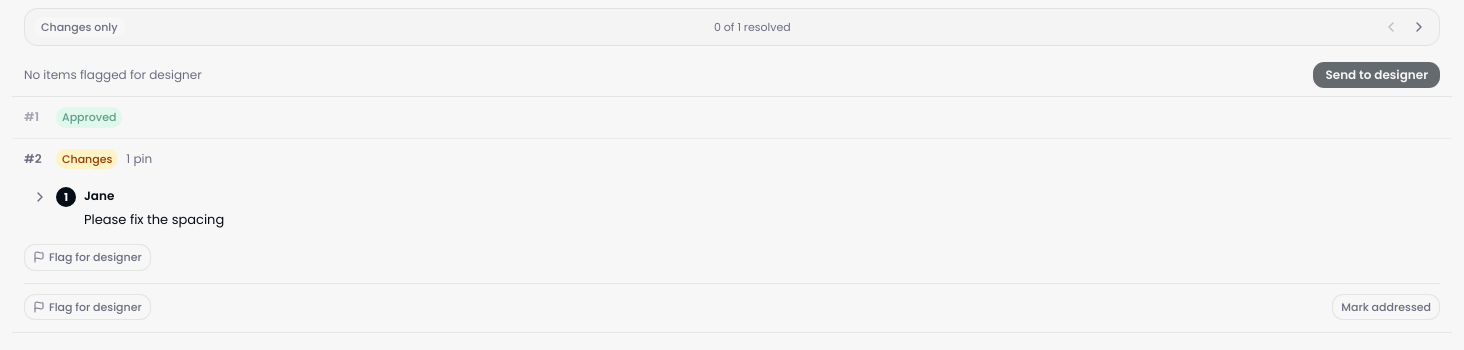
Scenario: ReviewFeedbackRail — Changes only filter › toggling the filter hides posts that need no changes
This screenshot has width=1464, height=350.
Expected: the button with test id "rail-row-post-approved" is shown, [12,97,1452,138]
Expected: the button with test id "rail-row-post-changes" is shown, [12,138,1452,179]
Step 1. Click the button with test id "changes-navigator-filter" → (79, 27), box [33,17,126,37]
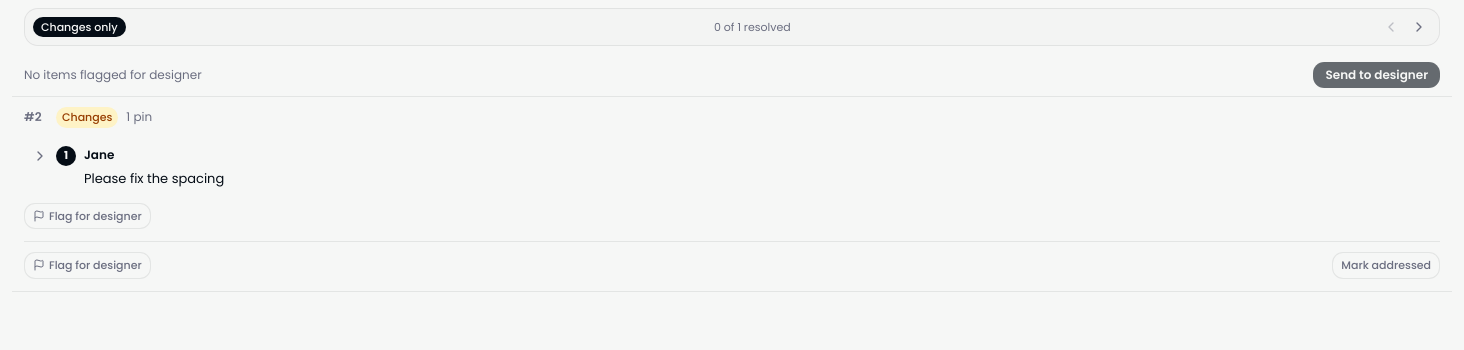
Expected: the button with test id "rail-row-post-changes" is shown, [12,97,1452,138]
Result: the button with test id "rail-row-post-approved" is gone
